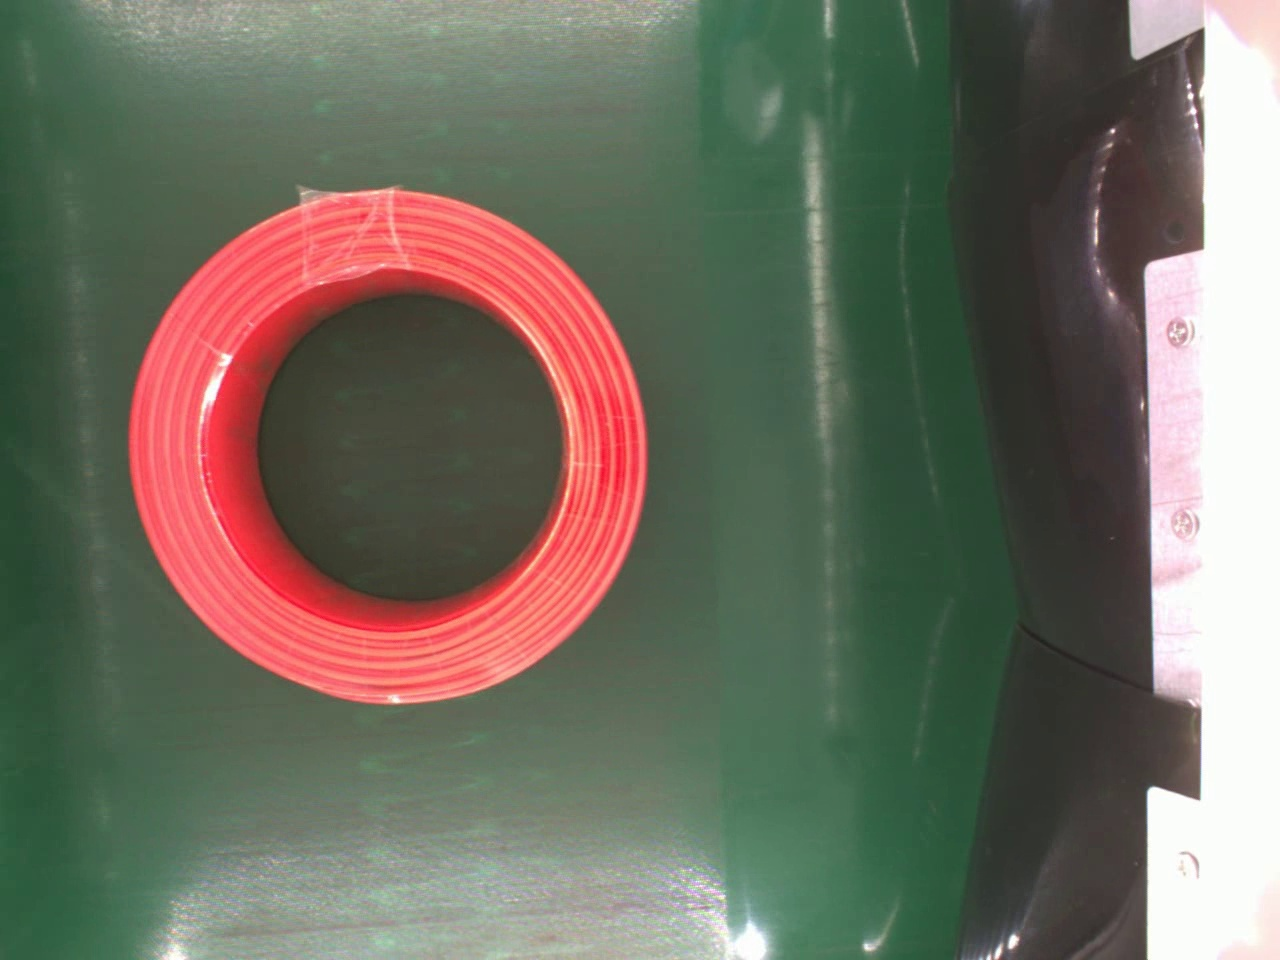red: (114, 175, 652, 702)
